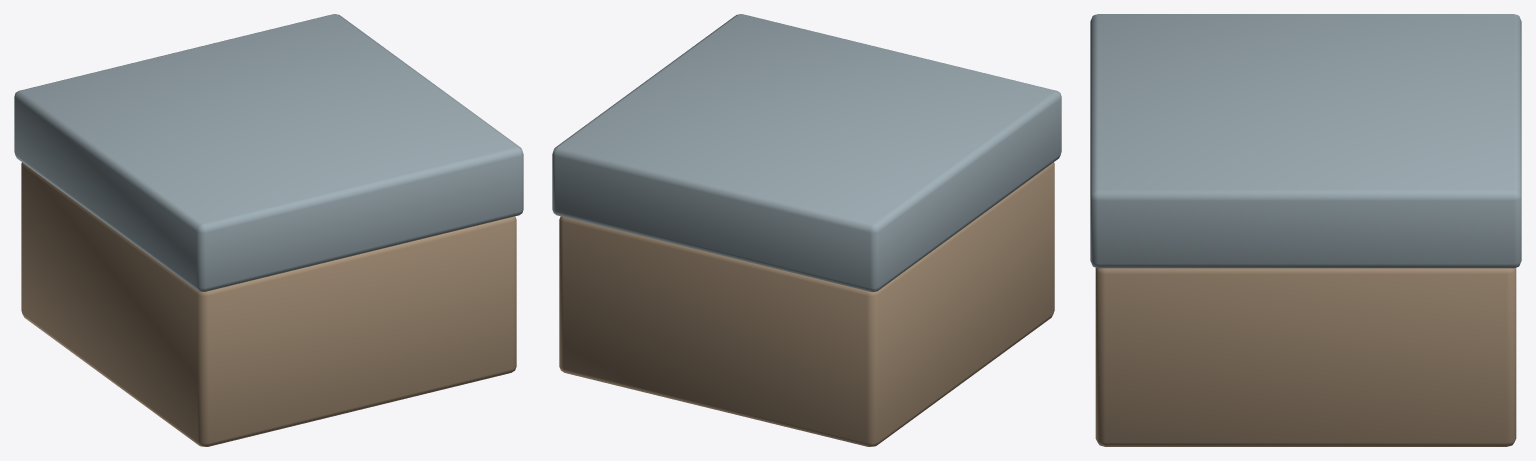
The model's file is ChoppingTable.fbx.
3 renders of one model, left to right at view 1: azimuth 30°, elevation 25°; view 2: azimuth 150°, elevation 25°; view 3: azimuth 270°, elevation 25°, orthographic. The views are drawn at different scales.
Visible parts, largest first — view 1: ChoppingTable; view 2: ChoppingTable; view 3: ChoppingTable.
Part boxes in pixels (<box>): ChoppingTable: <box>14,14,523,446</box>; ChoppingTable: <box>552,14,1061,446</box>; ChoppingTable: <box>1090,14,1521,446</box>.
Size of the model in its own units: 1 by 0.664 by 1.
